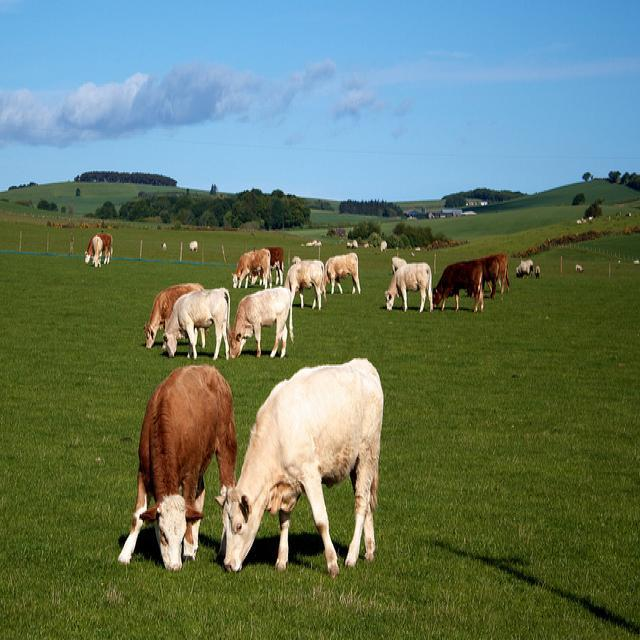cow: (210, 355, 382, 577), (112, 361, 234, 574), (228, 283, 296, 360), (163, 286, 229, 363), (144, 281, 210, 347), (430, 258, 484, 315), (382, 258, 432, 312), (283, 255, 326, 309), (230, 246, 270, 288), (323, 250, 360, 294), (249, 245, 283, 287), (83, 231, 112, 265), (495, 252, 509, 294)
